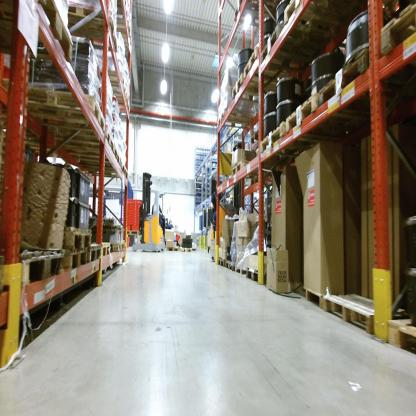forklift: (207, 160, 228, 264), (138, 173, 164, 255)
pallet: (7, 77, 103, 141), (2, 3, 79, 74), (259, 18, 342, 74), (320, 47, 375, 124), (289, 89, 364, 144), (260, 124, 365, 161), (5, 242, 65, 296), (57, 4, 122, 53), (325, 290, 382, 344), (277, 3, 378, 31), (43, 121, 116, 158), (238, 46, 314, 81), (227, 71, 291, 106), (373, 4, 413, 59), (213, 107, 274, 136), (229, 161, 287, 189), (59, 244, 91, 287), (296, 279, 331, 318), (65, 143, 121, 167), (382, 315, 414, 356), (75, 159, 130, 182), (58, 218, 96, 250), (99, 61, 127, 95), (109, 24, 136, 56), (246, 265, 274, 285), (98, 238, 114, 265), (110, 95, 133, 113), (91, 236, 105, 262), (249, 126, 263, 146), (235, 263, 251, 279), (110, 237, 123, 253), (124, 228, 140, 240), (225, 256, 235, 273), (217, 256, 226, 273), (163, 244, 178, 254), (177, 245, 193, 253), (121, 240, 125, 252), (192, 245, 196, 254)
small_load_carrier: (132, 220, 141, 230), (121, 222, 131, 231), (126, 242, 131, 250)
